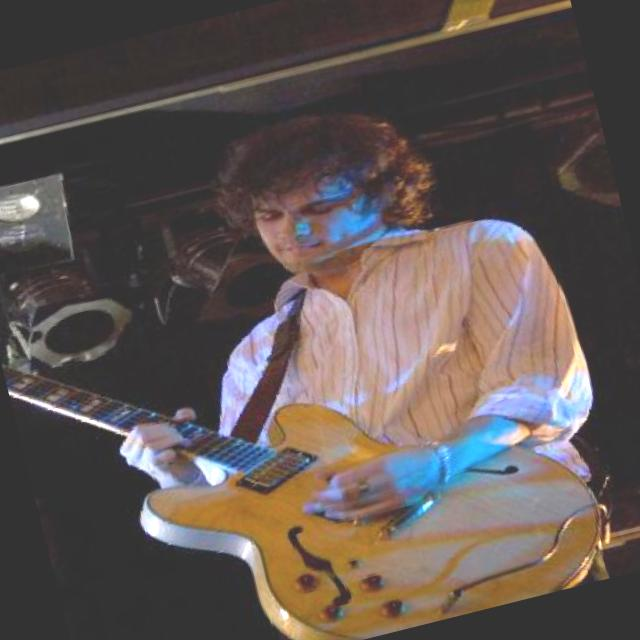Person: (14, 67, 609, 640)
